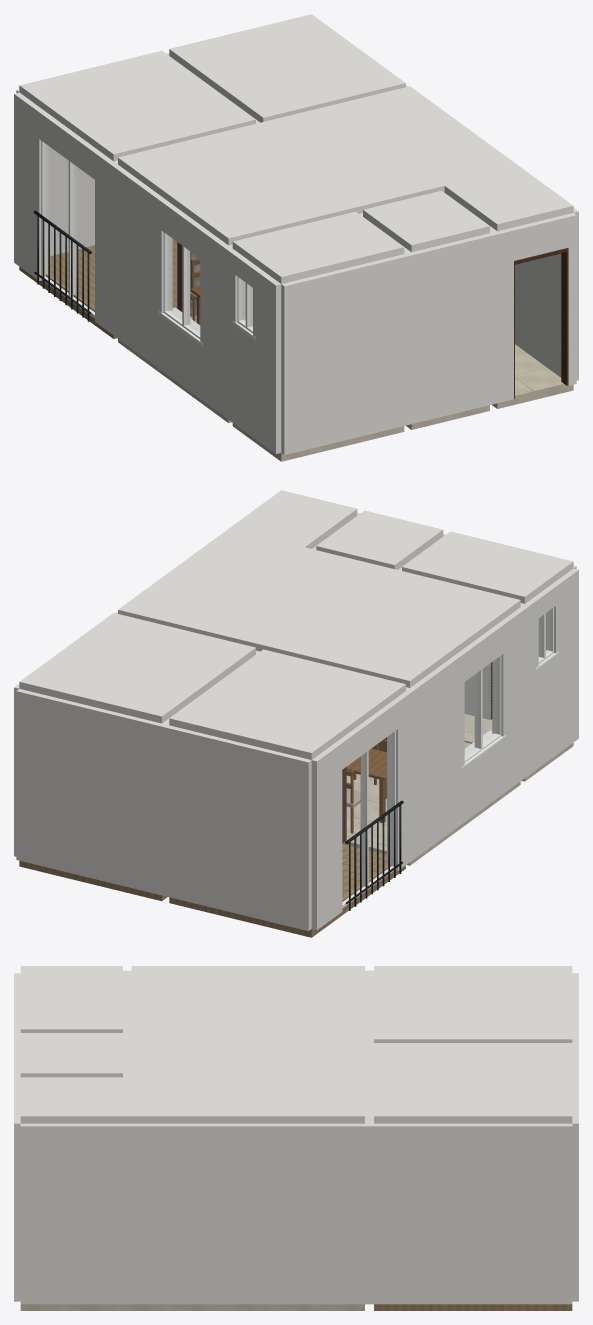
The picture shows the model from 3 angles, top to bottom: view 1: azimuth 30°, elevation 25°; view 2: azimuth 150°, elevation 25°; view 3: azimuth 270°, elevation 25°; orthographic projection. The views are drawn at different scales.
Visible parts, largest first — view 1: Wall__south_left, Ceiling__kitchen, Ceiling__bedroom, Ceiling__smallroom, Wall__west_kitchen_high, Ceiling__bathroom, Wall__west_bath_high, Wall__east, Wall__west_bath_low, Wall__west_bed_high, Ceiling__entry, Ceiling__wc (+14 smaller); view 2: Wall__north, Ceiling__kitchen, Ceiling__smallroom, Ceiling__bedroom, Wall__west_kitchen_high, Ceiling__bathroom, Wall__west_bath_high, Wall__west_bed_high, Ceiling__wc, Ceiling__entry, Wall__west_bath_low, Wall__west_kitchen_below (+12 smaller); view 3: Wall__east, Ceiling__kitchen, Ceiling__smallroom, Ceiling__bedroom, Ceiling__bathroom, Ceiling__entry, Ceiling__wc, Wall__north, Floor__kitchen, Floor__smallroom, Wall__south_right, Wall__south_left (+3 smaller).
Boxes of the visible parts, <box> form: Wall__south_left: <box>281,228,513,455</box>; Ceiling__kitchen: <box>118,86,520,245</box>; Ceiling__bedroom: <box>19,50,255,161</box>; Ceiling__smallroom: <box>169,14,405,122</box>; Wall__west_kitchen_high: <box>95,151,172,370</box>; Ceiling__bathroom: <box>232,211,404,283</box>; Wall__west_bath_high: <box>200,229,245,424</box>; Wall__east: <box>406,85,578,380</box>; Wall__west_bath_low: <box>253,267,281,453</box>; Wall__west_bed_high: <box>14,92,50,280</box>; Ceiling__entry: <box>444,167,573,231</box>; Ceiling__wc: <box>363,190,489,252</box>; Wall__north: <box>16,689,311,931</box>; Ceiling__kitchen: <box>118,528,520,687</box>; Ceiling__smallroom: <box>19,613,255,723</box>; Ceiling__bedroom: <box>169,649,405,759</box>; Wall__west_kitchen_high: <box>387,652,464,870</box>; Ceiling__bathroom: <box>402,531,573,603</box>; Wall__west_bath_high: <box>492,598,538,793</box>; Wall__west_bed_high: <box>311,741,342,929</box>; Ceiling__wc: <box>316,510,443,569</box>; Ceiling__entry: <box>229,490,357,548</box>; Wall__west_bath_low: <box>546,568,578,754</box>; Wall__west_kitchen_below: <box>464,740,503,821</box>; Wall__east: <box>20,1121,572,1304</box>; Ceiling__kitchen: <box>131,966,364,1123</box>; Ceiling__smallroom: <box>374,1043,572,1123</box>; Ceiling__bedroom: <box>374,966,572,1042</box>; Ceiling__bathroom: <box>20,966,122,1032</box>; Ceiling__entry: <box>20,1077,131,1123</box>; Ceiling__wc: <box>20,1033,122,1077</box>; Wall__north: <box>572,973,578,1301</box>; Floor__kitchen: <box>131,1304,364,1310</box>; Floor__smallroom: <box>374,1304,572,1310</box>; Wall__south_right: <box>14,1119,20,1301</box>; Wall__south_left: <box>14,973,20,1091</box>.
Size of the model in its own units: 5.07 by 2.9 by 7.63.
Materials: 16 (5 with a texture image).
